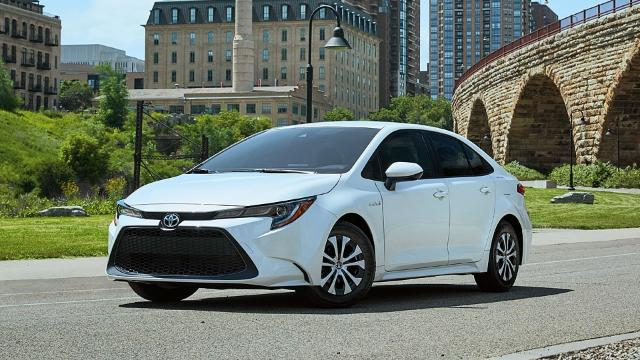toyota: (105, 121, 533, 308)
